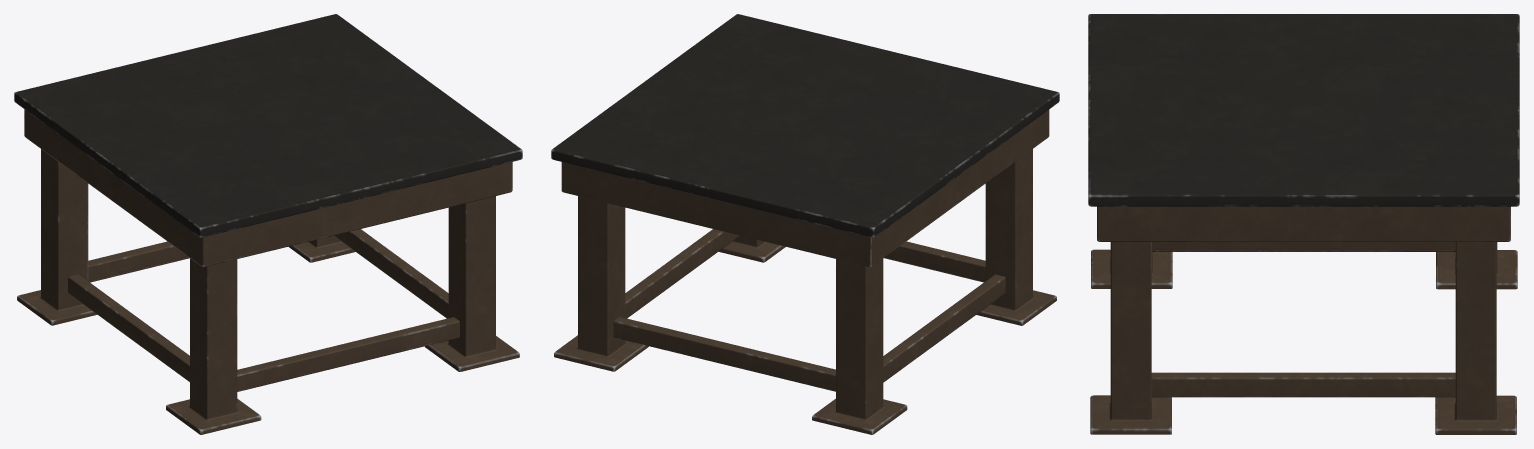
The model's file is TableUnderRobot.fbx.
3 renders of one model, left to right at view 1: azimuth 30°, elevation 25°; view 2: azimuth 150°, elevation 25°; view 3: azimuth 270°, elevation 25°, orthographic. The views are drawn at different scales.
Visible parts, largest first — view 1: TableUnderRobot; view 2: TableUnderRobot; view 3: TableUnderRobot.
Part boxes in pixels (x1,y1,x2,y2): TableUnderRobot: [14, 14, 522, 434]; TableUnderRobot: [551, 14, 1059, 434]; TableUnderRobot: [1088, 14, 1519, 434].
Bounding box in the file's own units: 100 × 61.5 × 100.
